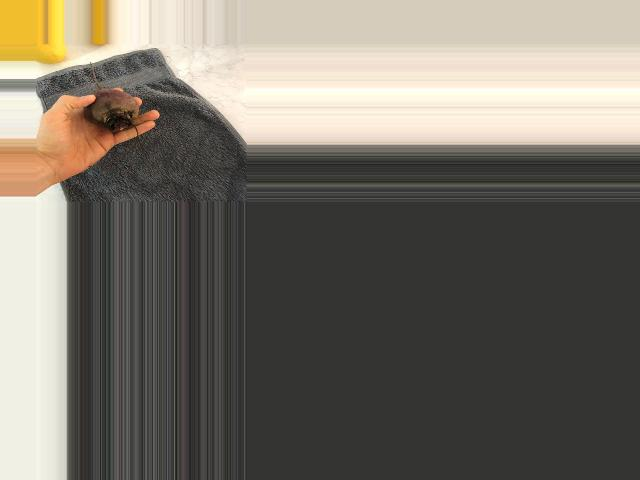beet: (83, 62, 138, 132)
